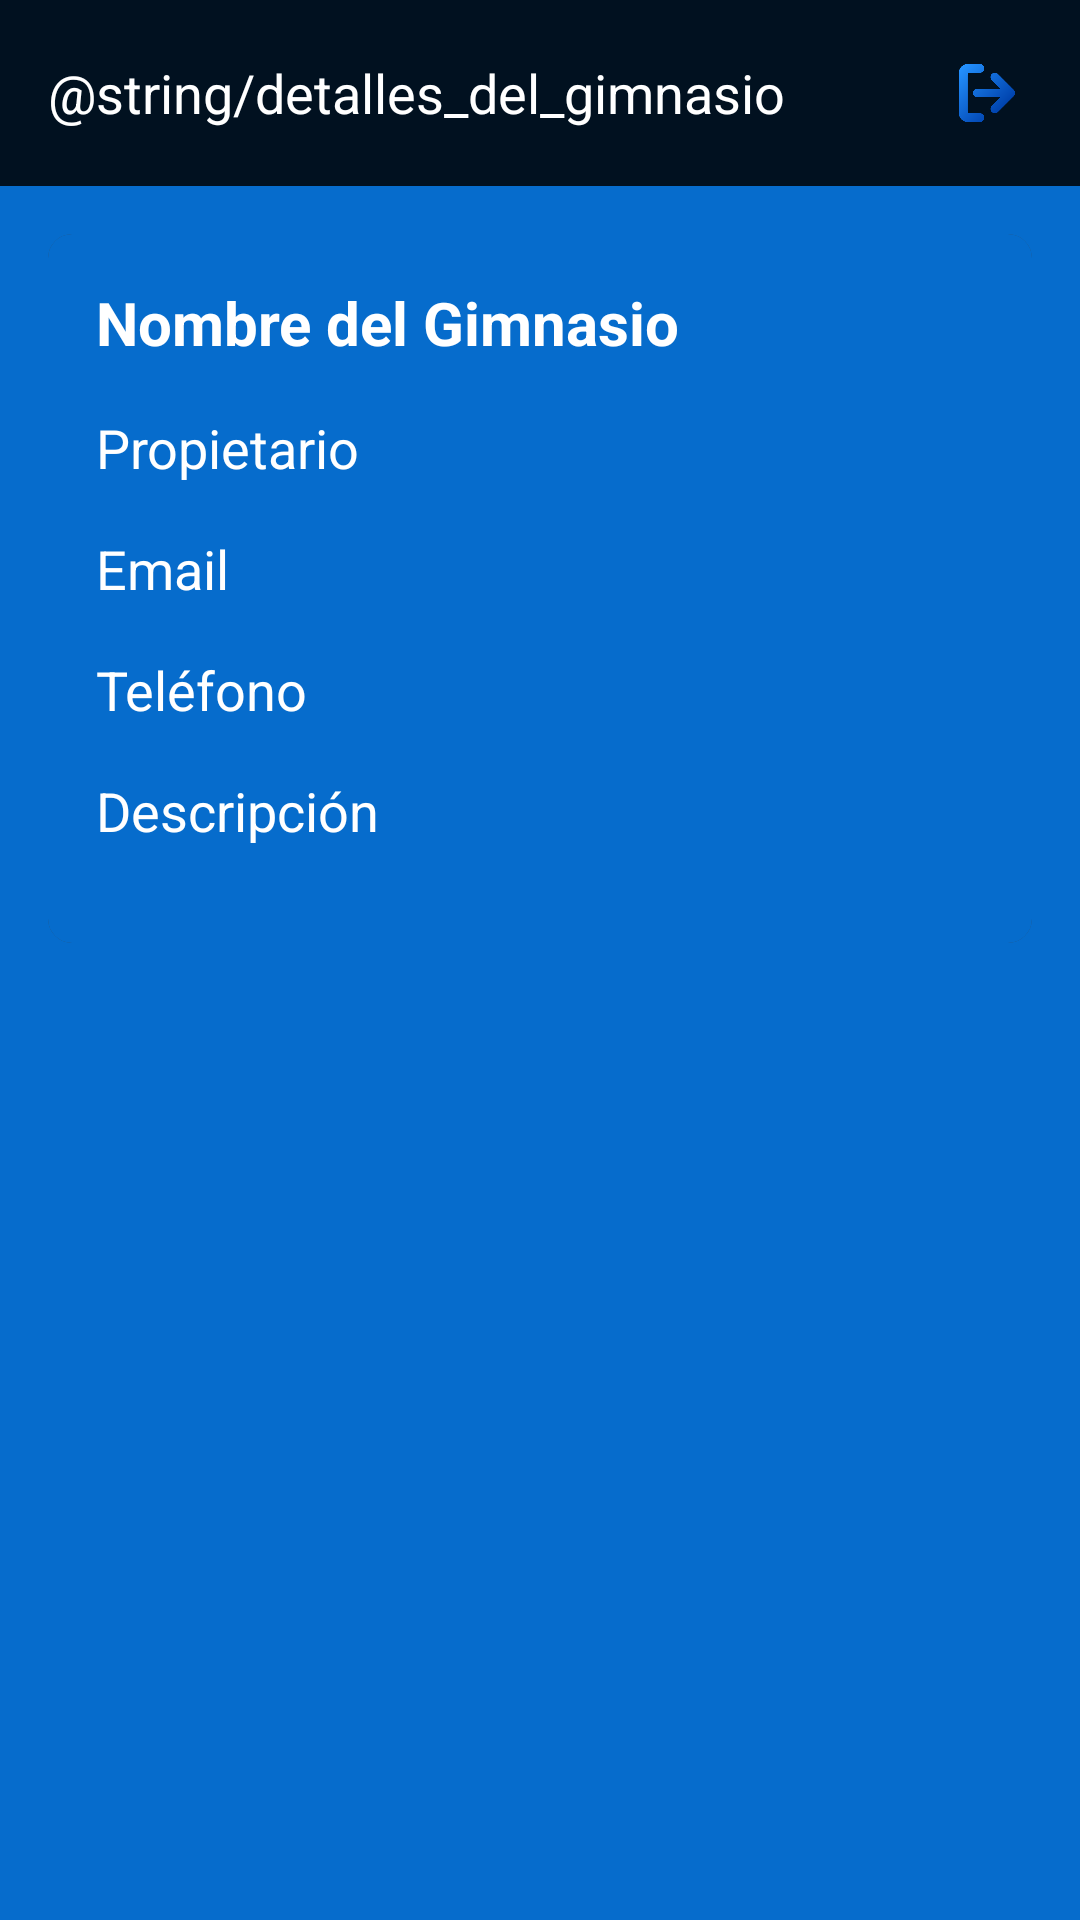

Where to tap for icons on this 1080x1920 app screen, as (x=x, y=y):
cerrar: (x=987, y=93)
